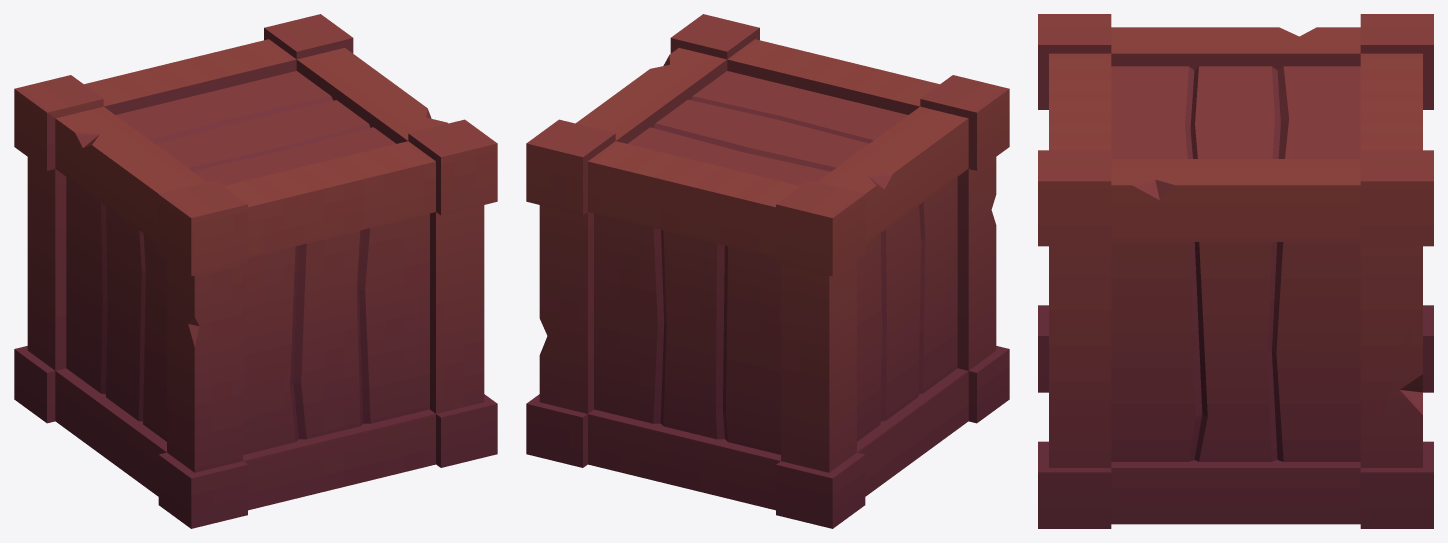
The model's file is fbx-crate-unbroken.fbx.
The picture shows the model from 3 angles, left to right: view 1: azimuth 30°, elevation 25°; view 2: azimuth 150°, elevation 25°; view 3: azimuth 270°, elevation 25°; orthographic projection. The views are drawn at different scales.
Parts seen in each view (by area): view 1: mesh-crate; view 2: mesh-crate; view 3: mesh-crate.
Part boxes in pixels (x1=…): mesh-crate: x1=14, y1=14, x2=497, y2=528; mesh-crate: x1=526, y1=14, x2=1009, y2=528; mesh-crate: x1=1038, y1=14, x2=1433, y2=528.
Bounding box in the file's own units: 218 × 211 × 218.
